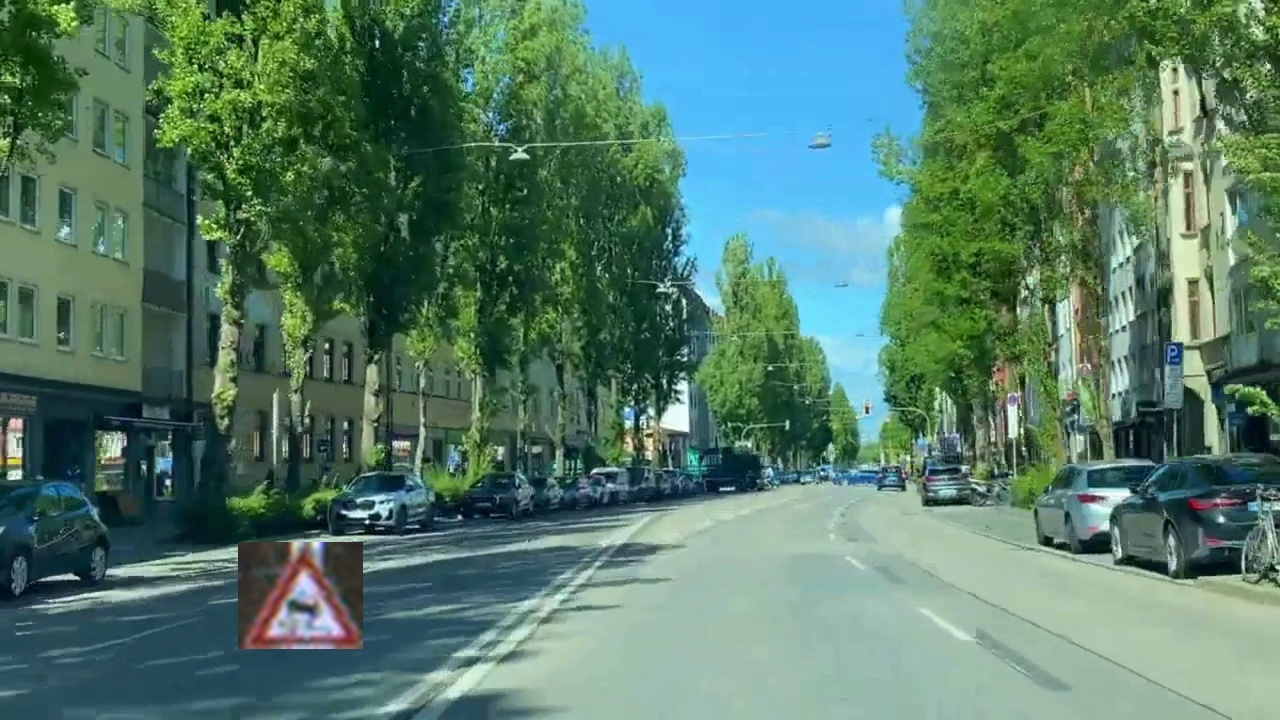Slippery: (238, 542, 363, 649)
